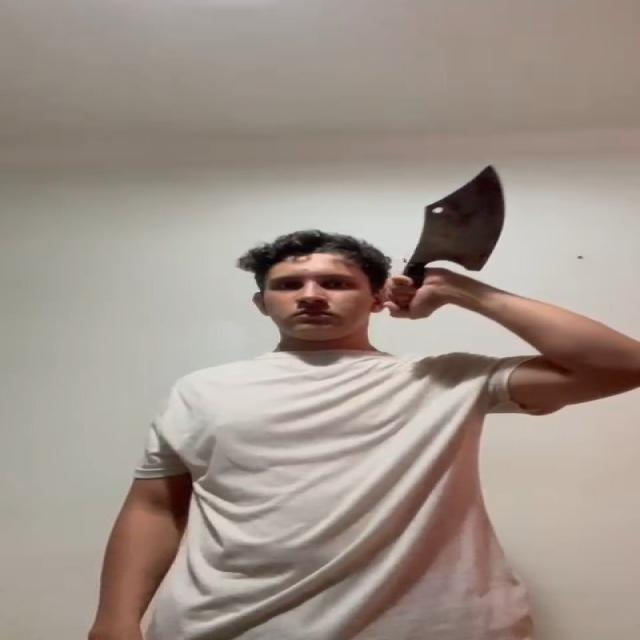knife: (412, 162, 508, 272)
